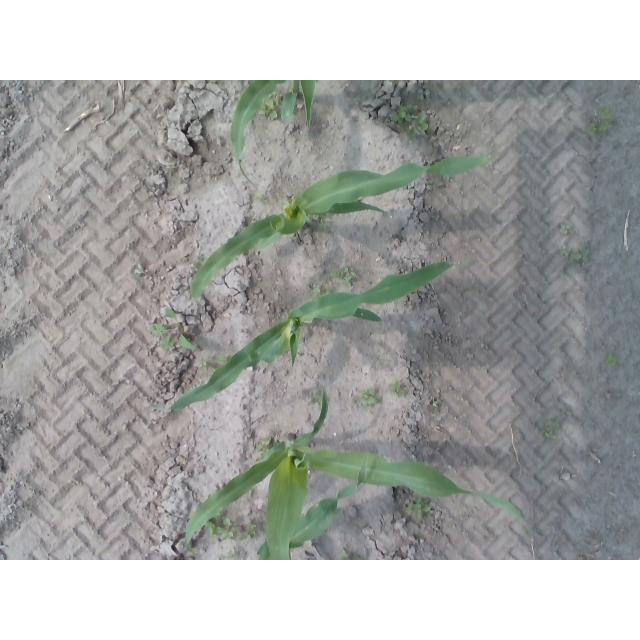Maize: (184, 390, 544, 546), (192, 154, 492, 302), (170, 263, 454, 411), (257, 458, 368, 560), (233, 81, 316, 188)
Weeds: (152, 309, 192, 352), (405, 500, 431, 520), (353, 388, 380, 405), (411, 118, 430, 134), (389, 382, 407, 397), (339, 266, 357, 281), (240, 525, 256, 541), (261, 103, 278, 118), (396, 110, 412, 124), (219, 526, 234, 539), (196, 360, 210, 372), (574, 254, 590, 263), (307, 284, 321, 293), (598, 111, 610, 121), (259, 441, 270, 451), (561, 223, 571, 234), (587, 124, 596, 135), (601, 122, 611, 131), (607, 357, 618, 364), (545, 432, 556, 439), (207, 524, 213, 533)
